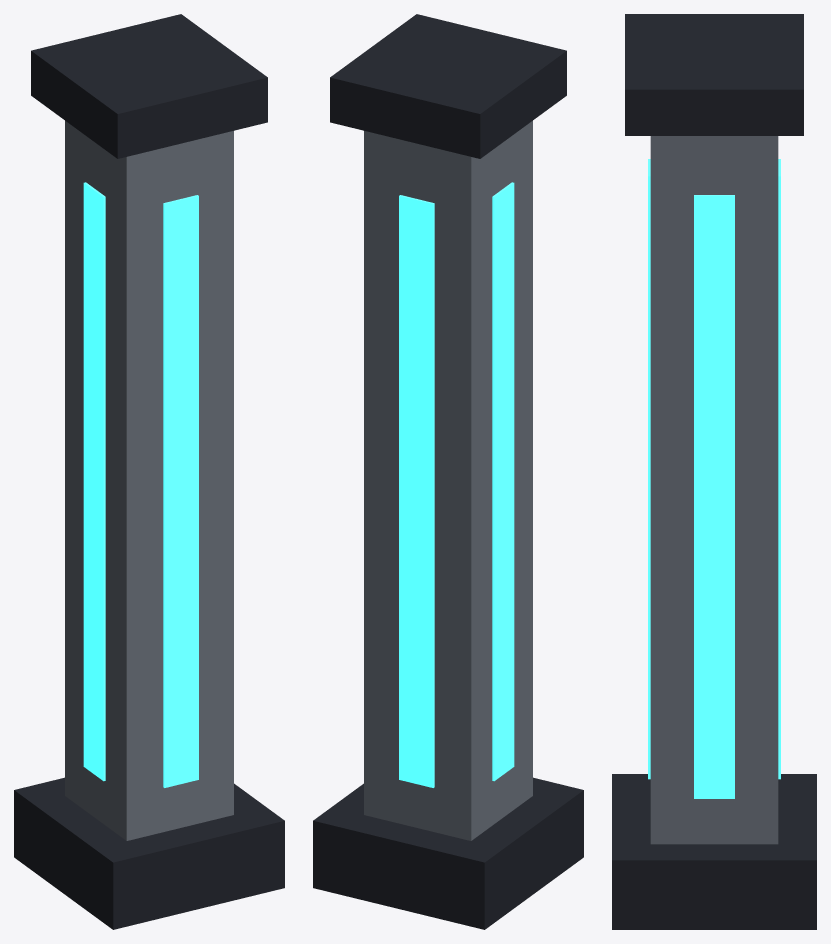
The model's file is light_pillar.glb.
The picture shows the model from 3 angles, left to right: view 1: azimuth 30°, elevation 25°; view 2: azimuth 150°, elevation 25°; view 3: azimuth 270°, elevation 25°; orthographic projection. The views are drawn at different scales.
Parts seen in each view (by area): view 1: light_pillar; view 2: light_pillar; view 3: light_pillar.
Boxes of the visible parts, <box> form: light_pillar: <box>14,14,284,929</box>; light_pillar: <box>313,14,583,929</box>; light_pillar: <box>612,14,816,929</box>.
Size of the model in its own units: 0.4 by 1.8 by 0.4.
